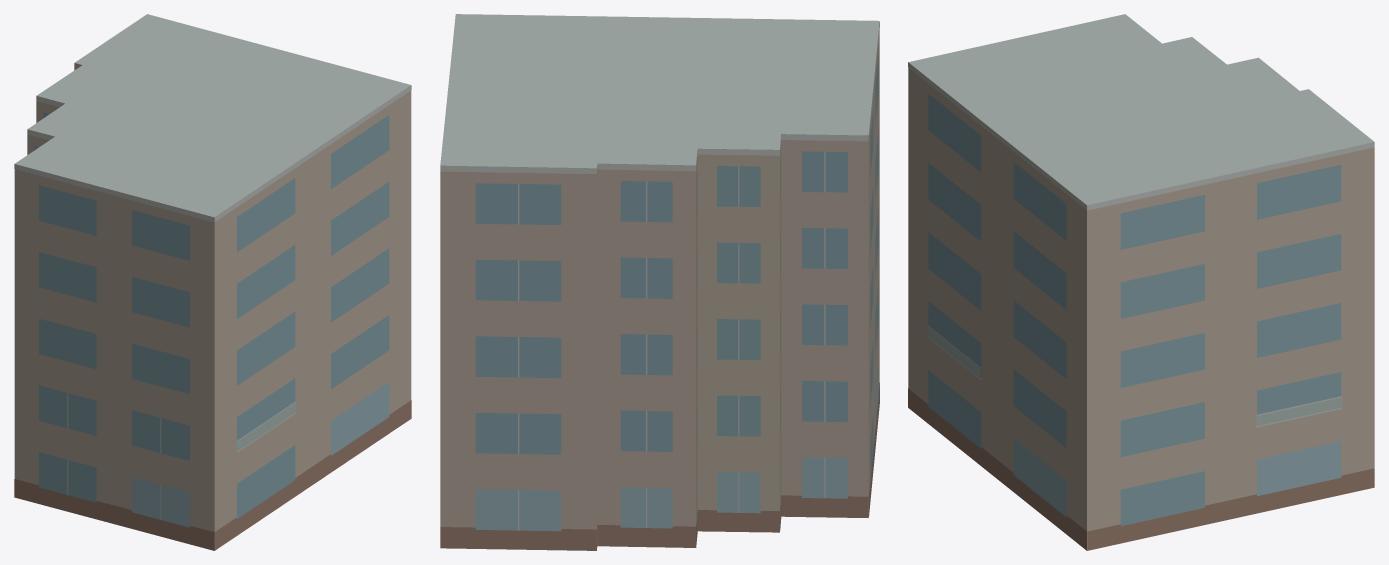
Rendered from survey-upis-33010113.glb.
3 renders of one model, left to right at view 1: azimuth 30°, elevation 25°; view 2: azimuth 150°, elevation 25°; view 3: azimuth 270°, elevation 25°, orthographic. The views are drawn at different scales.
Parts seen in each view (by area): view 1: survey-upis-33010113.tmp; view 2: survey-upis-33010113.tmp; view 3: survey-upis-33010113.tmp.
Part boxes in pixels (x1,y1,x2,y2): survey-upis-33010113.tmp: (14,14,411,550); survey-upis-33010113.tmp: (440,14,879,550); survey-upis-33010113.tmp: (908,14,1374,550).
Size of the model in its own units: 18.89 by 15.9 by 19.47.
